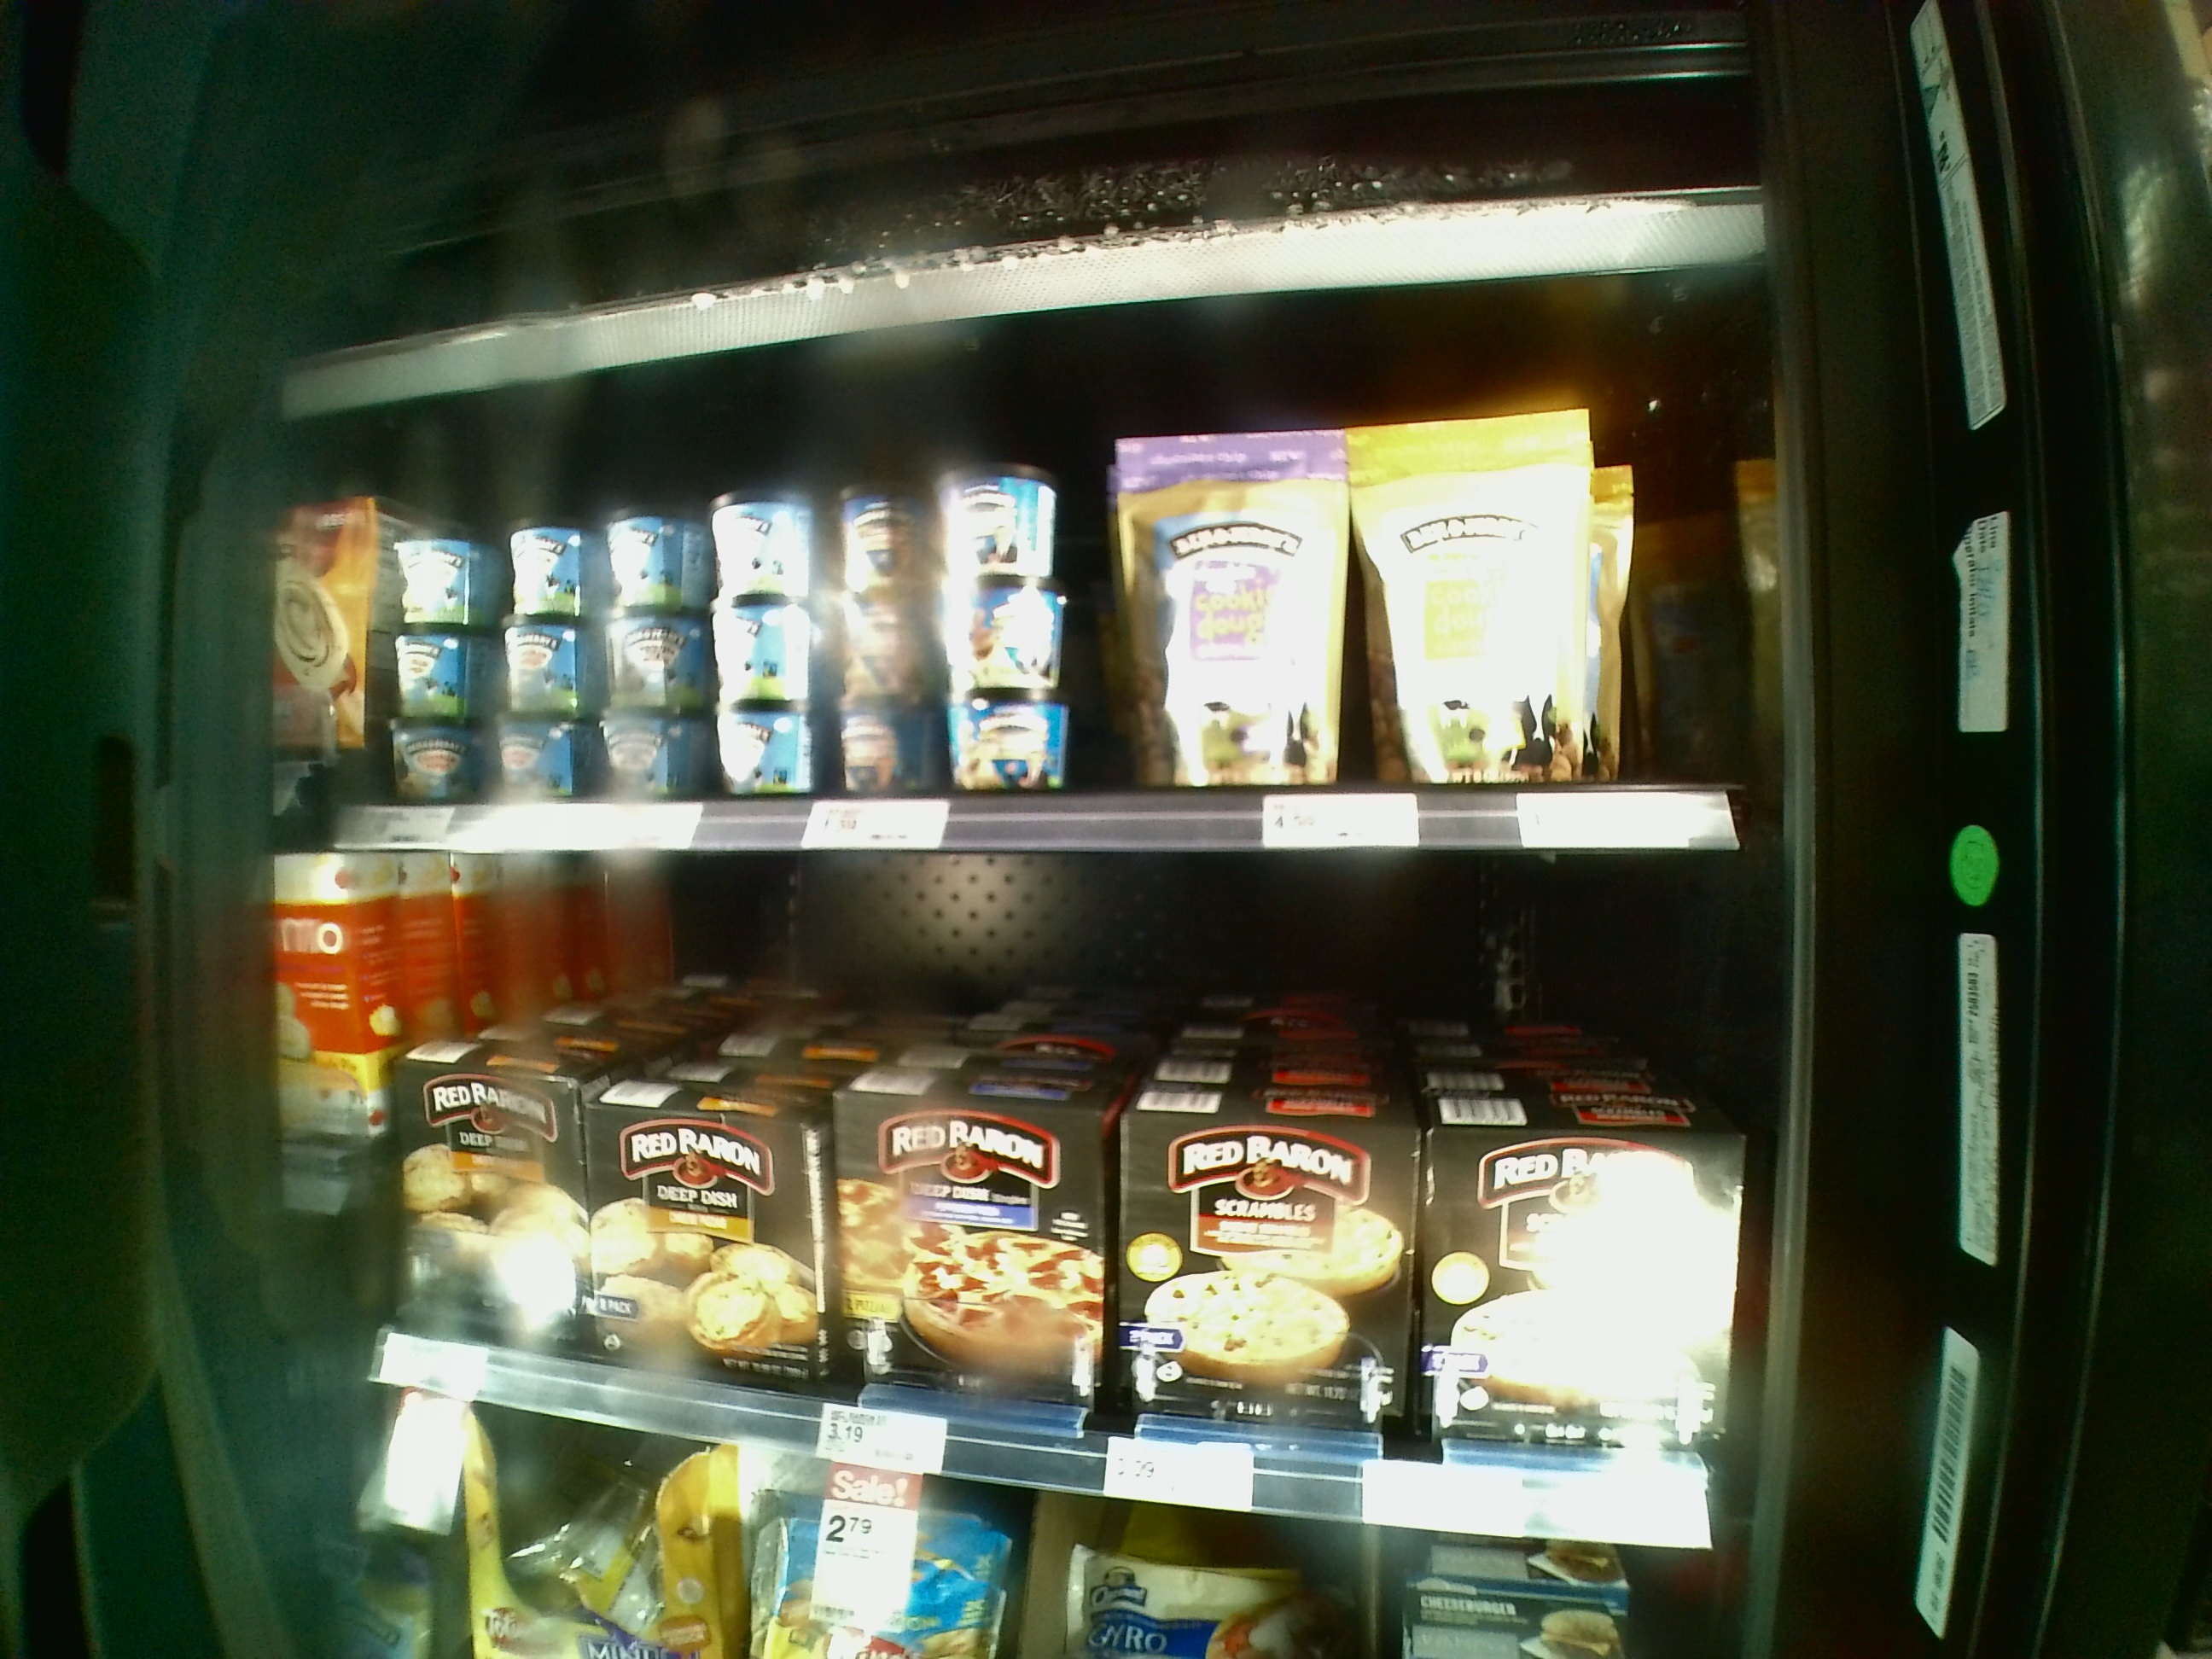shelf: (362, 852, 1709, 1535), (322, 295, 1771, 856)
